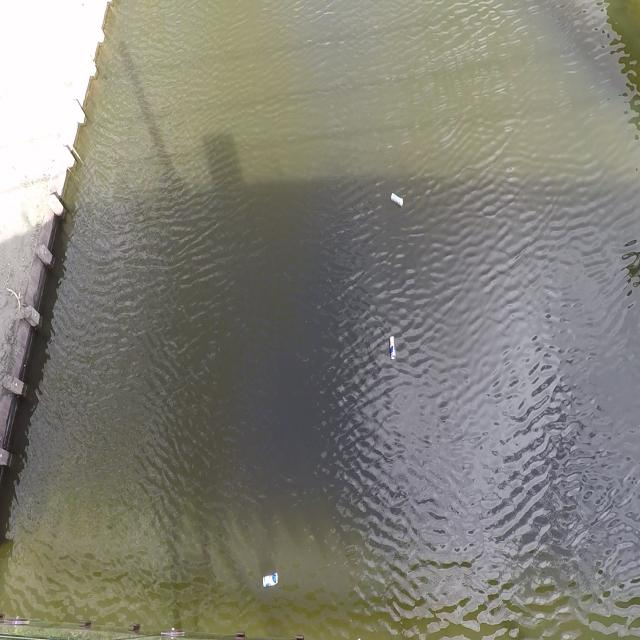Non plastique: (258, 568, 283, 594), (388, 188, 410, 210), (388, 334, 398, 364)
